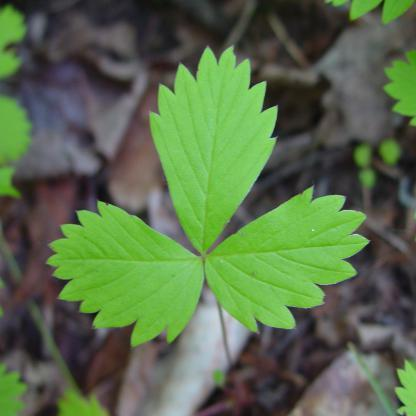Strawberry leaf: (148, 38, 284, 252), (201, 179, 372, 340), (42, 205, 206, 342)
